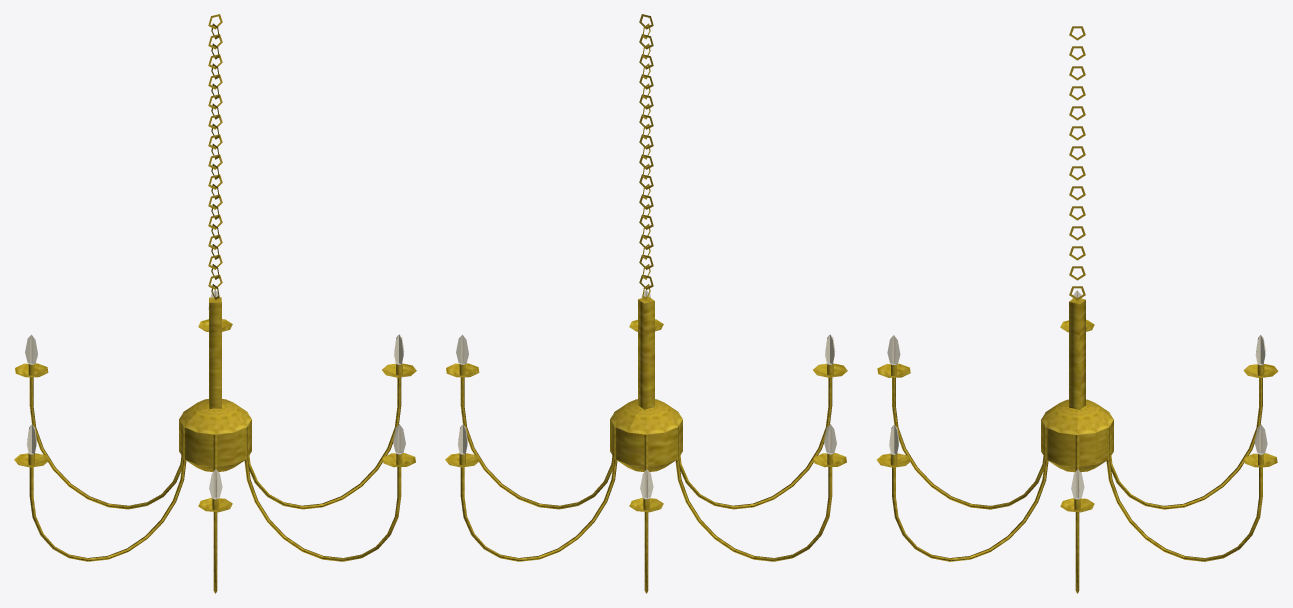
The picture shows the model from 3 angles, left to right: view 1: azimuth 30°, elevation 25°; view 2: azimuth 150°, elevation 25°; view 3: azimuth 270°, elevation 25°; orthographic projection.
Visible parts, largest first — view 1: Material2 (×9); view 2: Material2 (×9); view 3: Material2 (×9).
Part boxes in pixels (left/top/right/bottom): Material2 (×9): left=29, top=297, right=401, bottom=593; Material2 (×9): left=460, top=296, right=832, bottom=593; Material2 (×9): left=892, top=297, right=1262, bottom=593.
Size of the model in its own units: 25.96 by 32.34 by 22.78.
Materials: 4 (2 with a texture image).
